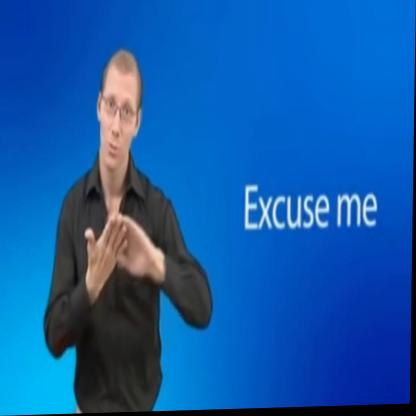ExcuseMe: (74, 194, 157, 304)
